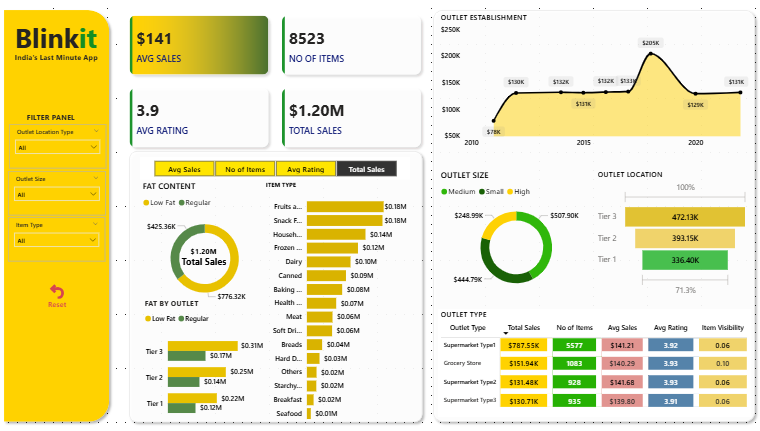

Layout of this report page (visuals, bound fields, positions):
{"tool":"powerbi","page":{"name":"Page 1","canvas":[1355,880],"ordinal":0},"visuals":[{"type":"shape","box":[0,123,205,750],"z":0},{"type":"textbox","box":[23.6,141.7,157.5,74.8],"z":1000},{"type":"textbox","box":[23.3,201.7,166.7,28.3],"z":2000},{"type":"cardVisual","fields":{"Data":["BlinkIT Grocery Data.Avg Sales","BlinkIT Grocery Data.No of Items","BlinkIT Grocery Data.Avg Rating","BlinkIT Grocery Data.Total Sales"]},"box":[214.6,124,553.1,269.7],"z":3000},{"type":"shape","box":[222.4,374,539.4,500],"z":4000},{"type":"donutChart","title":"FAT CONTENT","fields":{"Y":["BlinkIT Grocery Data.Total Sales"],"Category":["BlinkIT Grocery Data.Item Fat Content"]},"box":[250,433.3,230,230],"z":5000},{"type":"slicer","fields":{"Values":["Matrix.Matrix"]},"box":[250,393.3,480,40],"z":6000},{"type":"cardVisual","fields":{"Data":["BlinkIT Grocery Data.Total Sales"]},"box":[295,523.3,138.3,86.7],"z":7000},{"type":"clusteredBarChart","title":"FAT BY OUTLET","fields":{"Y":["BlinkIT Grocery Data.Total Sales"],"Category":["BlinkIT Grocery Data.Outlet Location Type"],"Series":["BlinkIT Grocery Data.Item Fat Content"]},"box":[255,643.3,220,230],"z":8000},{"type":"barChart","title":"ITEM TYPE","fields":{"Y":["BlinkIT Grocery Data.Total Sales"],"Category":["BlinkIT Grocery Data.Item Type"]},"box":[470,433.3,260,440],"z":9000},{"type":"shape","box":[763.3,123.3,590,750],"z":10000},{"type":"lineChart","title":"OUTLET ESTABLISHMENT","fields":{"Y":["BlinkIT Grocery Data.Total Sales"],"Category":["BlinkIT Grocery Data.Outlet Establishment Year"]},"box":[780,135,556.7,250],"z":11000},{"type":"donutChart","title":"OUTLET SIZE","fields":{"Y":["BlinkIT Grocery Data.Total Sales"],"Category":["BlinkIT Grocery Data.Outlet Size"]},"box":[780,413.3,278.3,230],"z":12000},{"type":"funnel","title":"OUTLET LOCATION","fields":{"Y":["Sum(BlinkIT Grocery Data.Sales)"],"Category":["BlinkIT Grocery Data.Outlet Location Type"]},"box":[1060,413.3,276.7,230],"z":13000},{"type":"pivotTable","title":"OUTLET TYPE","fields":{"Rows":["BlinkIT Grocery Data.Outlet Type"],"Values":["BlinkIT Grocery Data.Total Sales","BlinkIT Grocery Data.No of Items","BlinkIT Grocery Data.Avg Sales","BlinkIT Grocery Data.Avg Rating","Avg(BlinkIT Grocery Data.Item Visibility)"]},"box":[780,663.3,556.7,191.7],"z":14000},{"type":"slicer","fields":{"Values":["BlinkIT Grocery Data.Outlet Location Type"]},"box":[17,334,173,79],"z":15000},{"type":"slicer","fields":{"Values":["BlinkIT Grocery Data.Outlet Size"]},"box":[16.5,417.6,174.1,78.8],"z":16000},{"type":"slicer","fields":{"Values":["BlinkIT Grocery Data.Item Type"]},"box":[16.5,500,172.9,78.8],"z":17000},{"type":"textbox","box":[45,306.7,111.7,26.7],"z":18000},{"type":"actionButton","box":[70.9,610.2,65,61],"z":19000}]}

Visuals, with their boxes on the page's 1355x880 design canvas (x1, y1, x2, y2). These are canvas units, not pixel positions in the 760x431 screenshot, which may show the page scaled, cropped or inside an application window:
shape: x1=0, y1=123, x2=205, y2=873
textbox: x1=24, y1=142, x2=181, y2=216
textbox: x1=23, y1=202, x2=190, y2=230
cardVisual - BlinkIT Grocery Data.Avg Sales x BlinkIT Grocery Data.No of Items: x1=215, y1=124, x2=768, y2=394
shape: x1=222, y1=374, x2=762, y2=874
"FAT CONTENT" donutChart: x1=250, y1=433, x2=480, y2=663
slicer - Matrix.Matrix: x1=250, y1=393, x2=730, y2=433
cardVisual - BlinkIT Grocery Data.Total Sales: x1=295, y1=523, x2=433, y2=610
"FAT BY OUTLET" clusteredBarChart: x1=255, y1=643, x2=475, y2=873
"ITEM TYPE" barChart: x1=470, y1=433, x2=730, y2=873
shape: x1=763, y1=123, x2=1353, y2=873
"OUTLET ESTABLISHMENT" lineChart: x1=780, y1=135, x2=1337, y2=385
"OUTLET SIZE" donutChart: x1=780, y1=413, x2=1058, y2=643
"OUTLET LOCATION" funnel: x1=1060, y1=413, x2=1337, y2=643
"OUTLET TYPE" pivotTable: x1=780, y1=663, x2=1337, y2=855
slicer - BlinkIT Grocery Data.Outlet Location Type: x1=17, y1=334, x2=190, y2=413
slicer - BlinkIT Grocery Data.Outlet Size: x1=16, y1=418, x2=191, y2=496
slicer - BlinkIT Grocery Data.Item Type: x1=16, y1=500, x2=189, y2=579
textbox: x1=45, y1=307, x2=157, y2=333
actionButton: x1=71, y1=610, x2=136, y2=671
